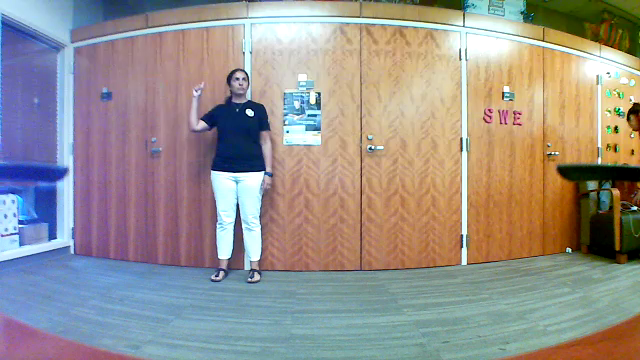up: (185, 74, 208, 101)
